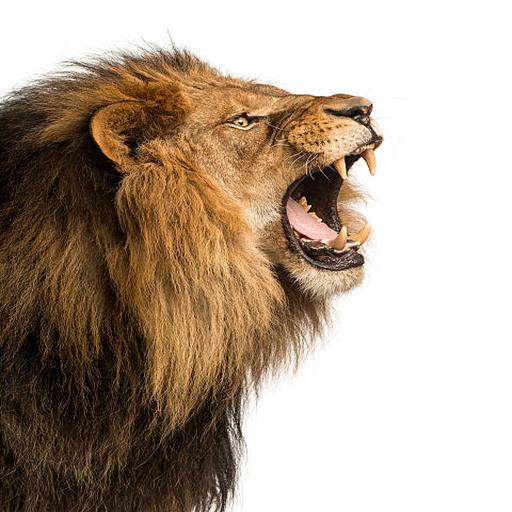Lion: (0, 33, 385, 512)
